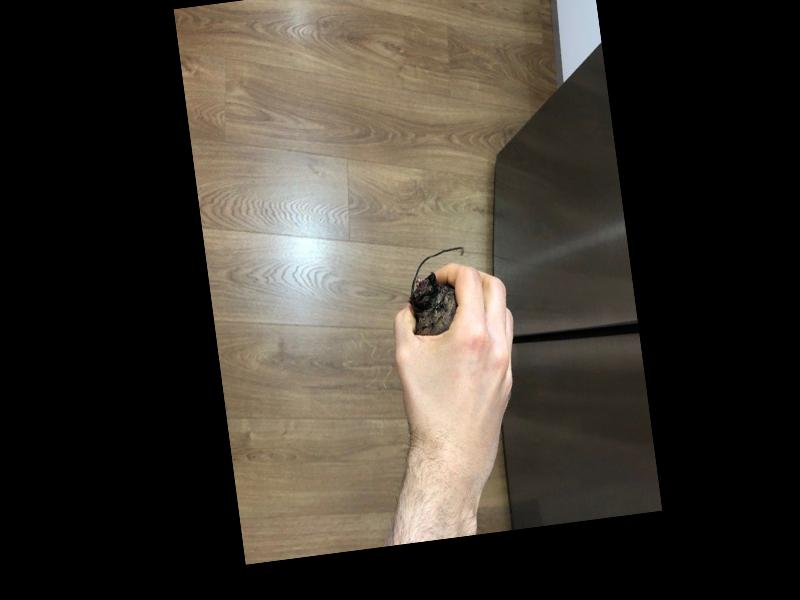Beet: (403, 243, 475, 337)
